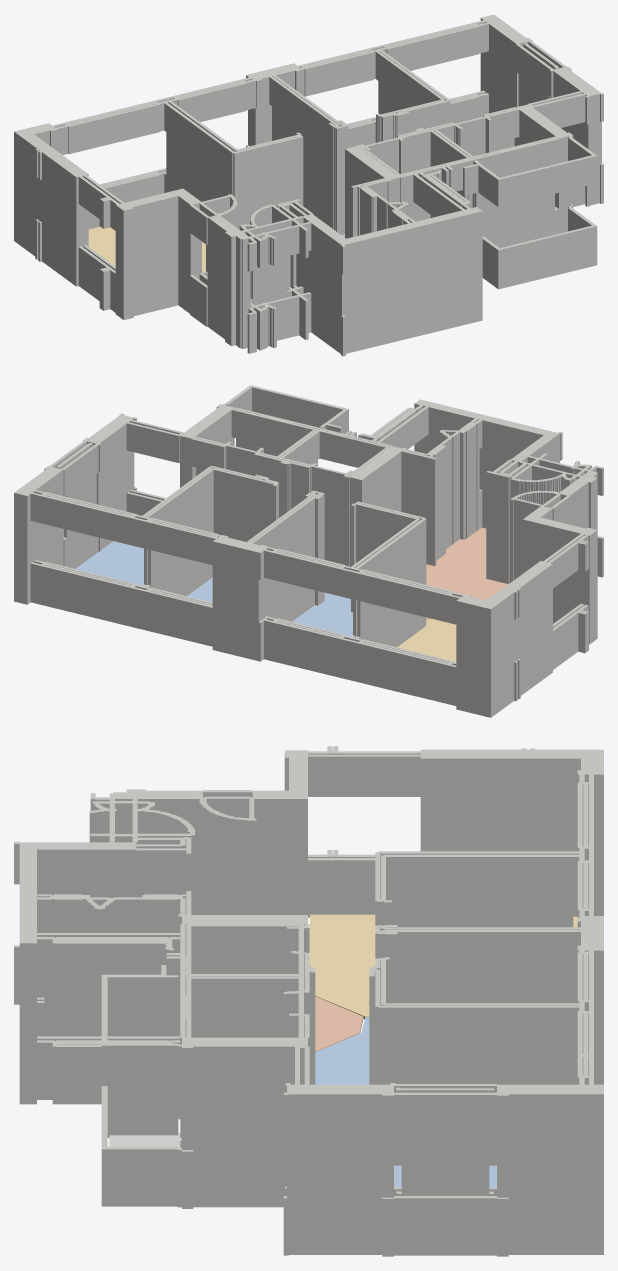
3 renders of one model, top to bottom at view 1: azimuth 30°, elevation 25°; view 2: azimuth 150°, elevation 25°; view 3: azimuth 270°, elevation 25°, orthographic. The views are drawn at different scales.
Parts seen in each view (by area): view 1: walls, room:living:0; view 2: walls, room:kitchen:5, room:bedroom:2, room:living:0, room:bedroom:1; view 3: walls, room:living:0, room:bedroom:1, room:kitchen:5, room:ledge:7.
Boxes of the visible parts, x1,y1,x2,y2 form: walls: [14, 14, 603, 356]; room:living:0: [88, 226, 205, 271]; walls: [14, 385, 603, 717]; room:kitchen:5: [426, 527, 508, 619]; room:bedroom:2: [75, 541, 143, 585]; room:living:0: [397, 619, 456, 662]; room:bedroom:1: [292, 592, 352, 636]; walls: [14, 746, 603, 1256]; room:living:0: [309, 914, 577, 1019]; room:bedroom:1: [315, 1017, 369, 1084]; room:kitchen:5: [315, 996, 363, 1051]; room:ledge:7: [109, 1132, 180, 1147].
Bounding box in the file's own units: 13.03 × 2.8 × 9.31.
